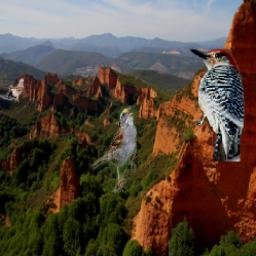Sparrow: (83, 105, 138, 193), (1, 79, 25, 104)
Woodpecker: (187, 43, 248, 163)
